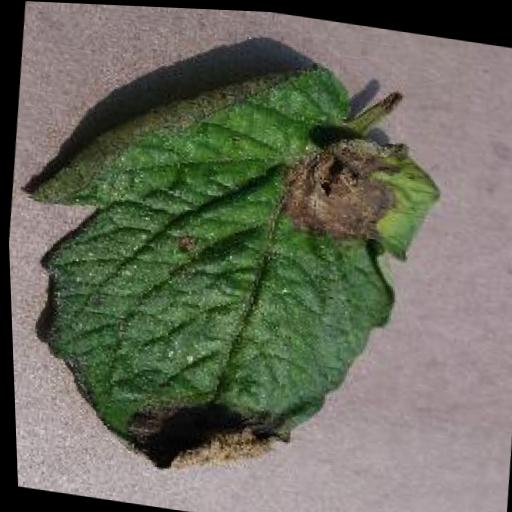Late Blight: (1, 21, 461, 508)
